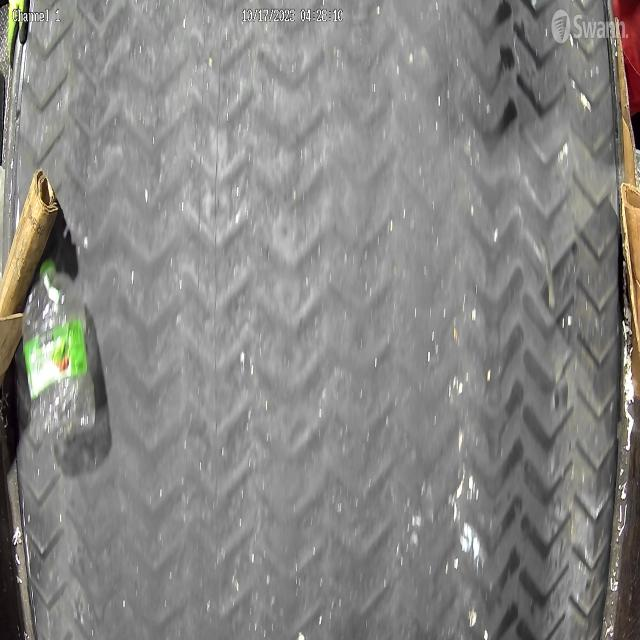plastic_bottle: (22, 262, 98, 444)
